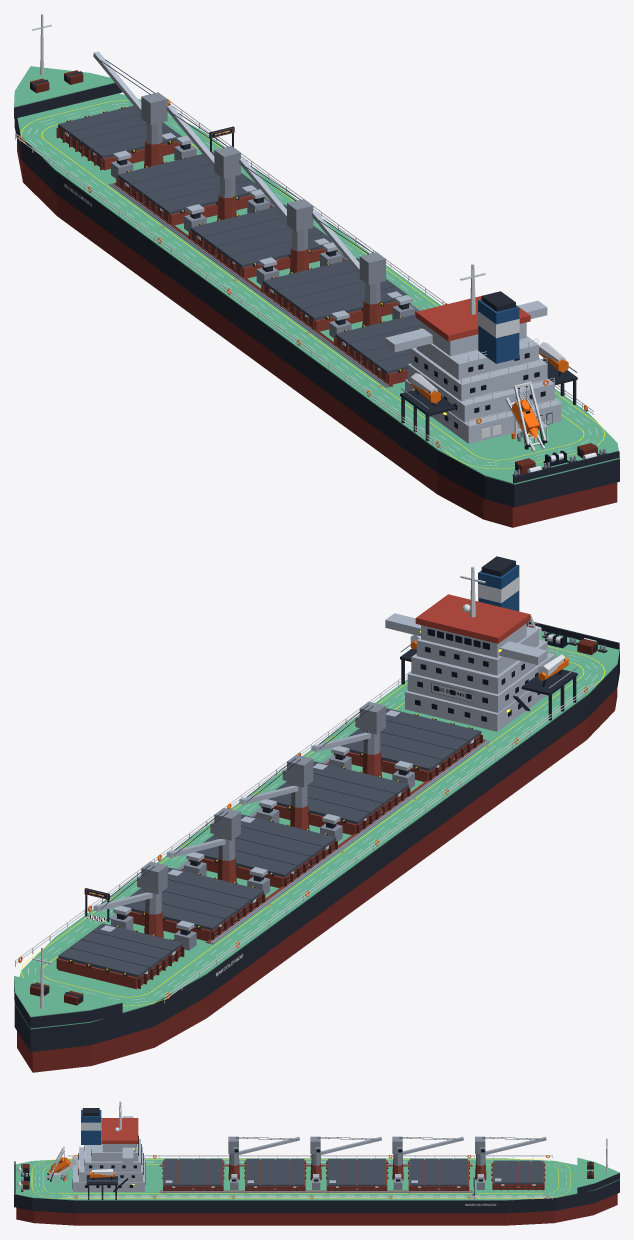
File: marcolorado_race_deck.glb
The picture shows the model from 3 angles, top to bottom: view 1: azimuth 30°, elevation 25°; view 2: azimuth 150°, elevation 25°; view 3: azimuth 270°, elevation 25°; orthographic projection. The views are drawn at different scales.
Visible parts, largest first — view 1: ShipBatch_Pal_DeckMint, ShipBatch_Pal_HullDark, ShipBatch_Pal_HatchGray, ShipBatch_Pal_SuperLight, ShipBatch_Pal_HullRed, ShipBatch_Pal_CraneGray, ShipBatch_Pal_RailWhite, ShipBatch_Pal_CoamingRed, ShipBatch_Pal_CoamingDark, ShipBatch_Pal_BridgeRed, ShipBatch_Pal_FunnelBlue, ShipBatch_Pal_OrangeSafety (+3 smaller); view 2: ShipBatch_Pal_DeckMint, ShipBatch_Pal_HatchGray, ShipBatch_Pal_HullDark, ShipBatch_Pal_SuperLight, ShipBatch_Pal_HullRed, ShipBatch_Pal_CraneGray, ShipBatch_Pal_CoamingRed, ShipBatch_Pal_RailWhite, ShipBatch_Pal_BridgeRed, ShipBatch_Pal_CoamingDark, ShipBatch_Pal_WindowDark, ShipBatch_Track_YellowEdge (+2 smaller); view 3: ShipBatch_Pal_HullDark, ShipBatch_Pal_DeckMint, ShipBatch_Pal_HullRed, ShipBatch_Pal_HatchGray, ShipBatch_Pal_SuperLight, ShipBatch_Pal_CoamingRed, ShipBatch_Pal_RailWhite, ShipBatch_Pal_CraneGray, ShipBatch_Track_YellowEdge, ShipBatch_Pal_BridgeRed, ShipBatch_Track_WhiteDash, ShipBatch_Pal_CoamingDark (+4 smaller).
Part boxes in pixels (x1,y1,x2,y2): ShipBatch_Pal_DeckMint: (14,66,619,484); ShipBatch_Pal_HullDark: (14,57,619,507); ShipBatch_Pal_HatchGray: (58,105,420,373); ShipBatch_Pal_SuperLight: (93,51,561,443); ShipBatch_Pal_HullRed: (17,140,617,527); ShipBatch_Pal_CraneGray: (109,92,605,475); ShipBatch_Pal_RailWhite: (15,14,596,472); ShipBatch_Pal_CoamingRed: (58,126,415,386); ShipBatch_Pal_CoamingDark: (30,70,597,474); ShipBatch_Pal_BridgeRed: (415,296,530,341); ShipBatch_Pal_FunnelBlue: (478,299,519,363); ShipBatch_Pal_OrangeSafety: (18,99,587,447); ShipBatch_Pal_DeckMint: (14,631,619,1029); ShipBatch_Pal_HatchGray: (58,708,481,977); ShipBatch_Pal_HullDark: (14,556,619,1051); ShipBatch_Pal_SuperLight: (93,613,554,931); ShipBatch_Pal_HullRed: (17,688,617,1072); ShipBatch_Pal_CraneGray: (109,631,605,950); ShipBatch_Pal_CoamingRed: (58,734,485,989); ShipBatch_Pal_RailWhite: (15,566,596,1008); ShipBatch_Pal_BridgeRed: (415,594,530,643); ShipBatch_Pal_CoamingDark: (30,625,597,1005); ShipBatch_Pal_WindowDark: (415,628,568,721); ShipBatch_Track_YellowEdge: (20,646,605,1006); ShipBatch_Pal_HullDark: (14,1108,619,1213); ShipBatch_Pal_DeckMint: (14,1157,619,1200); ShipBatch_Pal_HullRed: (16,1193,617,1225); ShipBatch_Pal_HatchGray: (164,1158,543,1185); ShipBatch_Pal_SuperLight: (54,1116,546,1191); ShipBatch_Pal_CoamingRed: (159,1160,544,1191); ShipBatch_Pal_RailWhite: (17,1101,607,1199); ShipBatch_Pal_CraneGray: (21,1136,485,1194); ShipBatch_Track_YellowEdge: (31,1159,570,1198); ShipBatch_Pal_BridgeRed: (101,1118,138,1143); ShipBatch_Track_WhiteDash: (35,1161,566,1197); ShipBatch_Pal_CoamingDark: (22,1160,593,1191).
Size of the model in its own units: 30.4 by 34.85 by 185.
27 materials, 9 textured.
